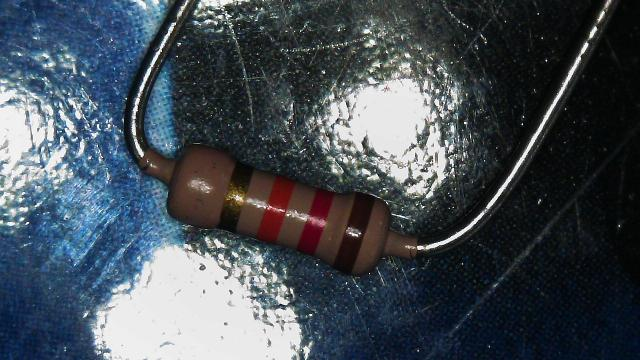brown: (339, 192, 372, 276)
gold: (220, 163, 252, 232)
orange: (263, 176, 288, 244)
red: (304, 187, 328, 257)
resistor: (128, 123, 443, 295)
